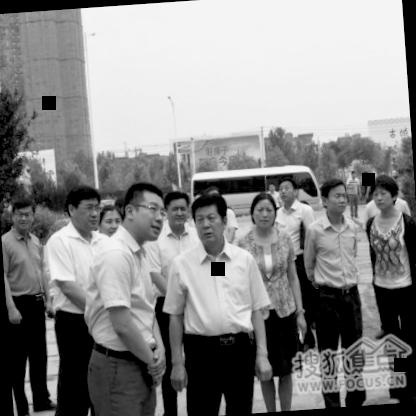head: (117, 180, 166, 242), (190, 188, 232, 250), (64, 182, 101, 232), (247, 189, 280, 235), (319, 174, 351, 219), (162, 187, 193, 233), (370, 172, 402, 214), (7, 192, 38, 235), (96, 198, 122, 240), (277, 172, 303, 206)
